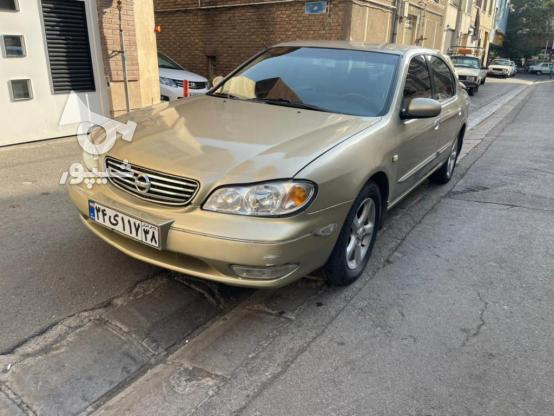car: (85, 199, 159, 249)
